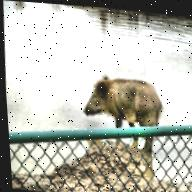boar: (84, 62, 192, 154)
